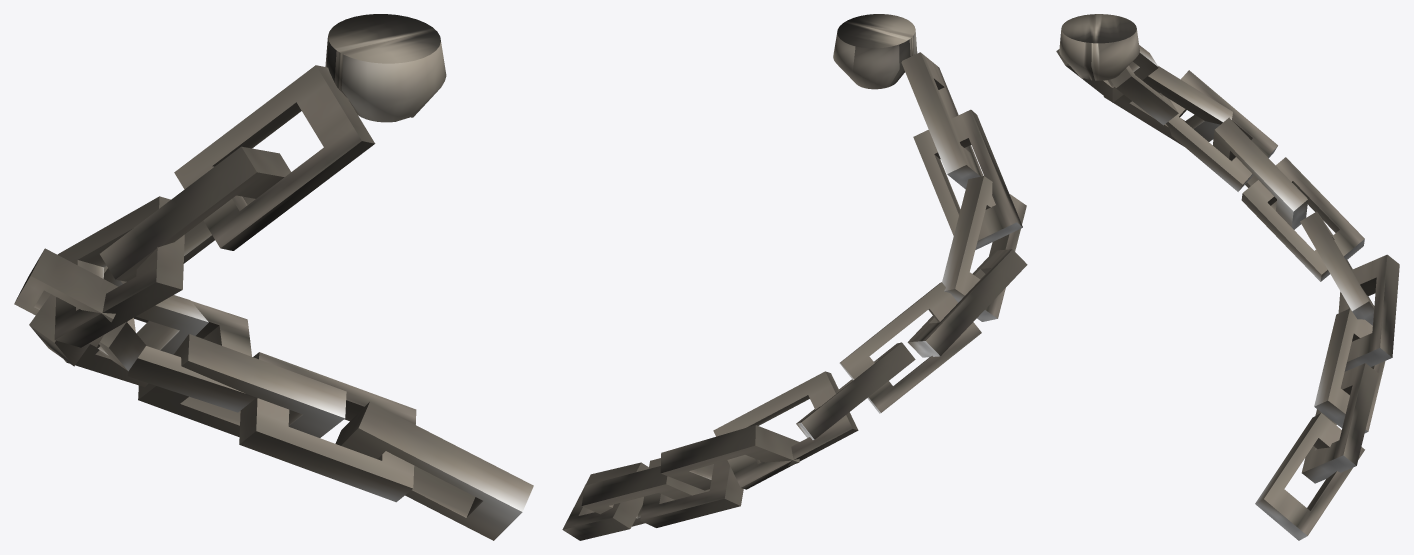
Rendered from lusi_prop_elite_correntes.dae.
The picture shows the model from 3 angles, left to right: view 1: azimuth 30°, elevation 25°; view 2: azimuth 150°, elevation 25°; view 3: azimuth 270°, elevation 25°; orthographic projection. The views are drawn at different scales.
Visible parts, largest first — view 1: lusi_prop_elite_correntes; view 2: lusi_prop_elite_correntes; view 3: lusi_prop_elite_correntes.
Part boxes in pixels (bbox=[...]): lusi_prop_elite_correntes: bbox=[14, 14, 533, 540]; lusi_prop_elite_correntes: bbox=[562, 14, 1027, 540]; lusi_prop_elite_correntes: bbox=[1056, 14, 1399, 540].
Bounding box in the file's own units: 0.4941 × 0.4084 × 0.5639.
Materials: 1 (1 with a texture image).
